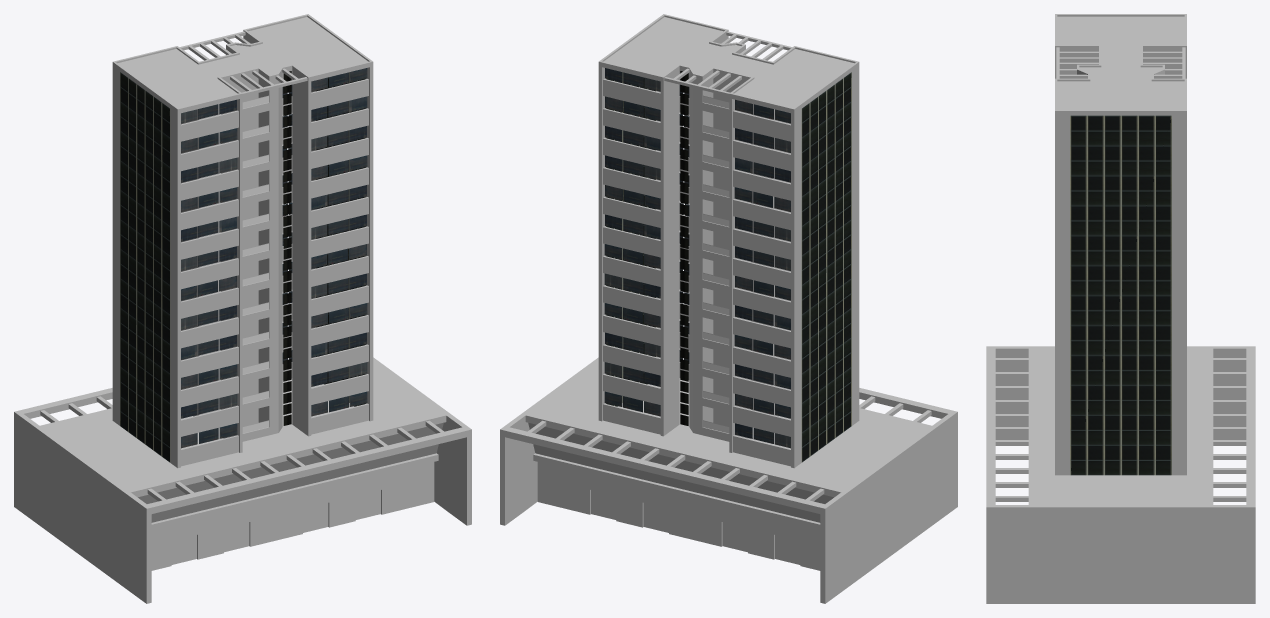
3 renders of one model, left to right at view 1: azimuth 30°, elevation 25°; view 2: azimuth 150°, elevation 25°; view 3: azimuth 270°, elevation 25°, orthographic.
Parts seen in each view (by area): view 1: BC-054; view 2: BC-054; view 3: BC-054.
Boxes of the visible parts, x1=… form: BC-054: x1=14, y1=14, x2=471, y2=603; BC-054: x1=500, y1=14, x2=957, y2=603; BC-054: x1=986, y1=14, x2=1255, y2=603.
Size of what is drawn, in the model's own units: 34.6 by 46.15 by 24.42.
